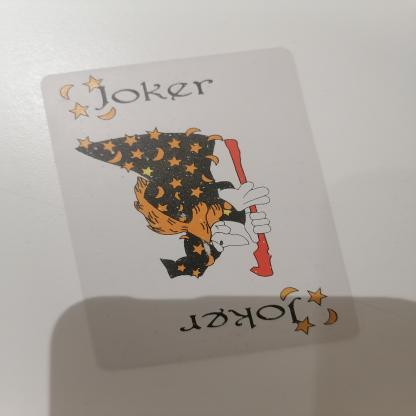BLACK JOKER: (151, 272, 350, 354), (56, 52, 231, 128)
